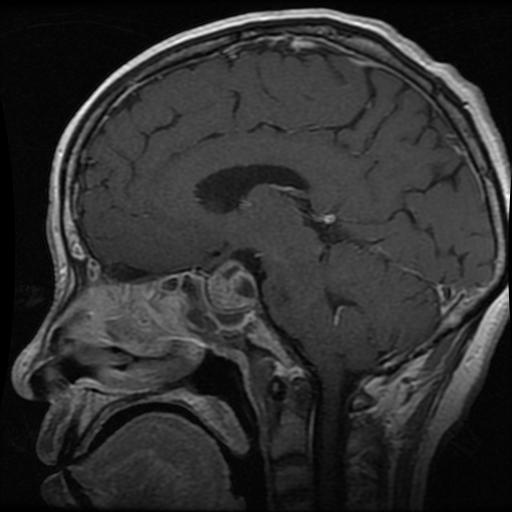Pituirity_tumour: (207, 259, 257, 315)
